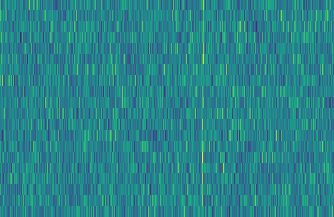signal: (197, 0, 208, 217)
